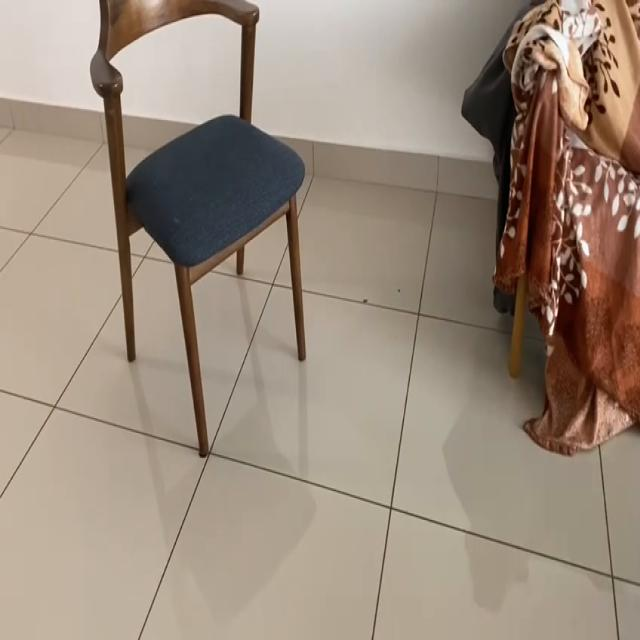Chair: (68, 0, 336, 383)
